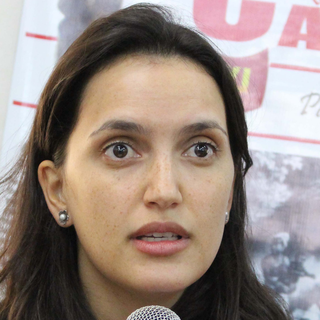eye: (96, 138, 144, 165), (178, 138, 223, 164)
